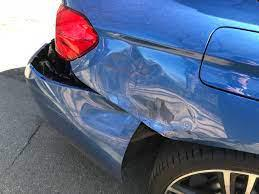quaterpanel-dent: (131, 7, 257, 158)
rear-bumper-dent: (22, 30, 129, 176)
